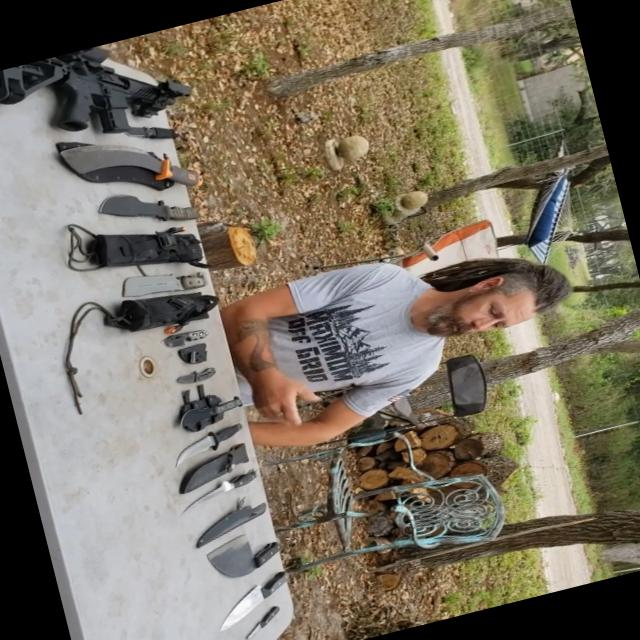knife: (39, 98, 202, 224), (82, 242, 218, 328), (205, 557, 324, 639), (94, 96, 194, 167), (102, 170, 206, 238), (197, 524, 294, 594), (146, 379, 256, 439), (166, 467, 264, 523), (155, 416, 255, 468), (146, 351, 230, 398), (143, 316, 218, 362), (231, 598, 287, 639)
long weapon: (0, 20, 224, 180)
